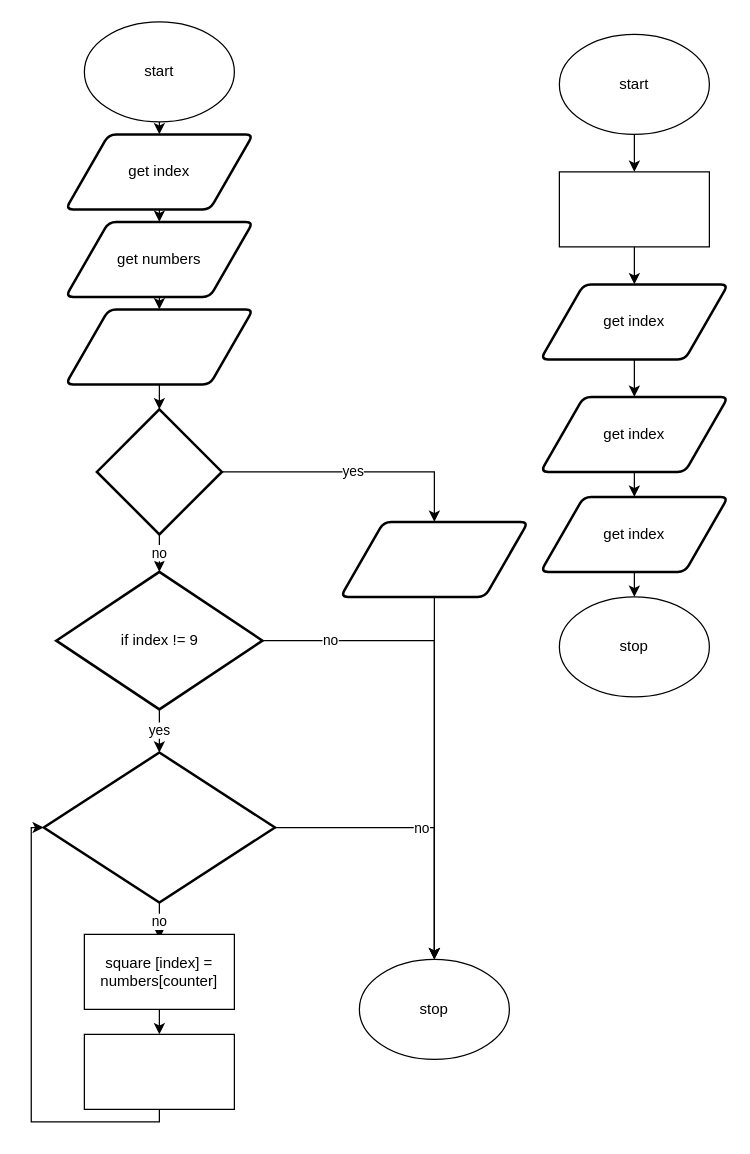
Some shapes in this 750 by 1154 pixel diagram are drawn without their labels. Each missing label, with the centre of its shape:
"find dupes" belongs at (x=633, y=209).
"for let counter = 0 counter <9 counter ++" belongs at (x=159, y=827).
"get square" belongs at (x=159, y=346).
"if index == 9 && isMagic(square)" belongs at (x=158, y=471).
"magicSquare(numbers, square, index + 1" belongs at (x=158, y=1071).
"print current square" belongs at (x=434, y=559).
